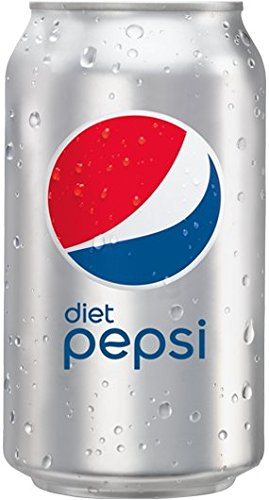pepsi: (41, 108, 227, 290)
